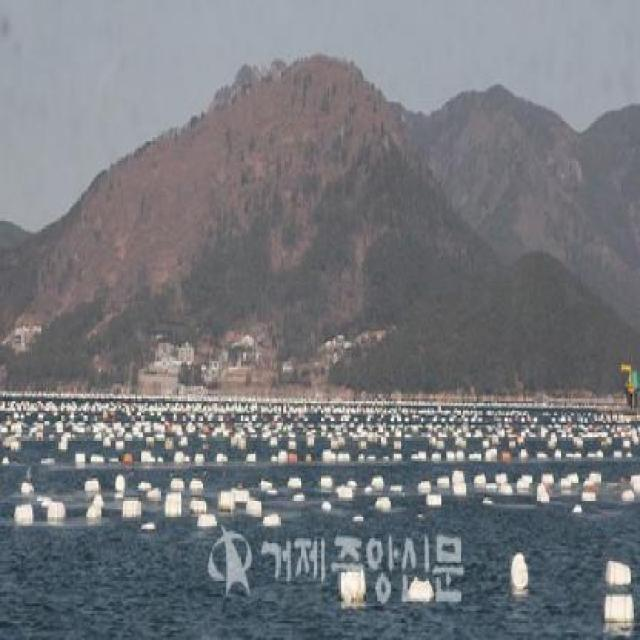a: (499, 412, 548, 475), (564, 416, 610, 472), (405, 411, 443, 469), (542, 474, 588, 519), (460, 420, 491, 467), (601, 595, 639, 633), (336, 568, 371, 605), (510, 547, 536, 596), (336, 422, 363, 469), (354, 414, 390, 448), (605, 554, 636, 593), (256, 416, 283, 460), (289, 428, 321, 465), (600, 472, 628, 510), (211, 421, 240, 455), (10, 501, 39, 535), (46, 501, 72, 535), (219, 487, 243, 521), (121, 496, 147, 525), (114, 424, 145, 446), (175, 421, 201, 446), (164, 491, 184, 523), (246, 493, 266, 521), (334, 484, 356, 509), (85, 474, 109, 496), (197, 508, 220, 529), (89, 502, 103, 535), (374, 497, 399, 514), (425, 491, 445, 511), (499, 479, 516, 499), (455, 484, 472, 504), (319, 476, 336, 492), (321, 497, 333, 514), (141, 479, 155, 490)
